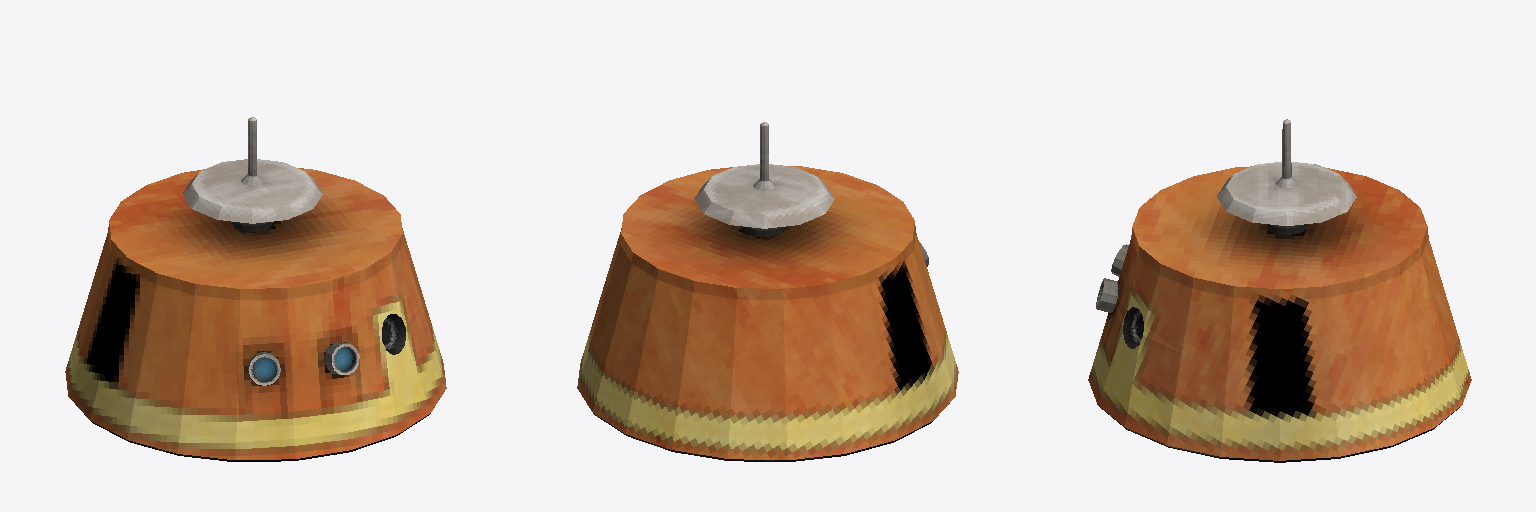
3 views of the same model, side by side, from view 1: azimuth 30°, elevation 25°; view 2: azimuth 150°, elevation 25°; view 3: azimuth 270°, elevation 25° (orthographic).
Visible parts, largest first — view 1: SWRChopper:Handle1; view 2: SWRChopper:Handle1; view 3: SWRChopper:Handle1.
Boxes of the visible parts, x1=… form: SWRChopper:Handle1: x1=65, y1=117, x2=446, y2=461; SWRChopper:Handle1: x1=577, y1=122, x2=958, y2=461; SWRChopper:Handle1: x1=1088, y1=119, x2=1471, y2=462.
Bounding box in the file's own units: 1.15 × 0.8988 × 1.15.
Materials: 1 (1 with a texture image).